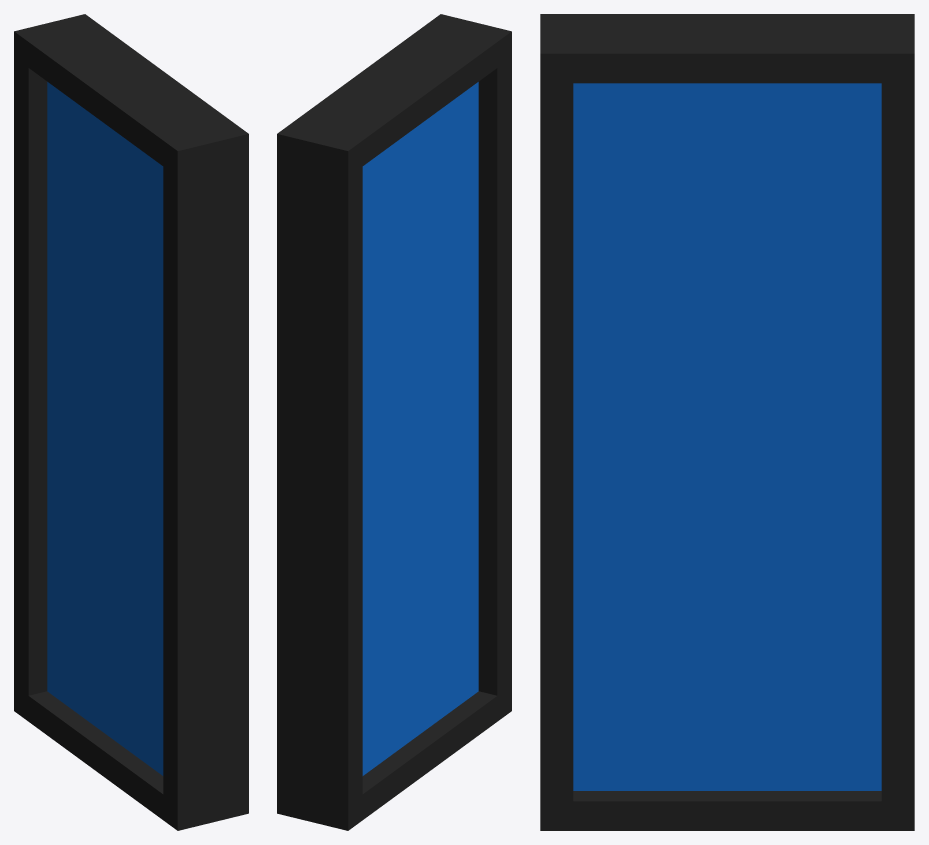
The model's file is advertbanner_05.fbx.
3 renders of one model, left to right at view 1: azimuth 30°, elevation 25°; view 2: azimuth 150°, elevation 25°; view 3: azimuth 270°, elevation 25°, orthographic. The views are drawn at different scales.
Parts seen in each view (by area): view 1: advertbanner_05; view 2: advertbanner_05; view 3: advertbanner_05.
Part boxes in pixels (x1=…): advertbanner_05: x1=14, y1=14, x2=248, y2=830; advertbanner_05: x1=277, y1=14, x2=511, y2=830; advertbanner_05: x1=540, y1=14, x2=914, y2=830.
Size of the model in its own units: 0.4266 by 3.9 by 1.7.
